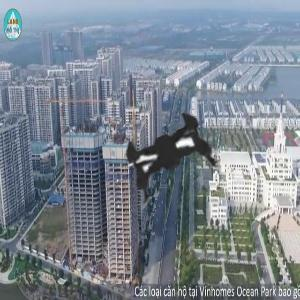drone: (17, 13, 300, 296)
